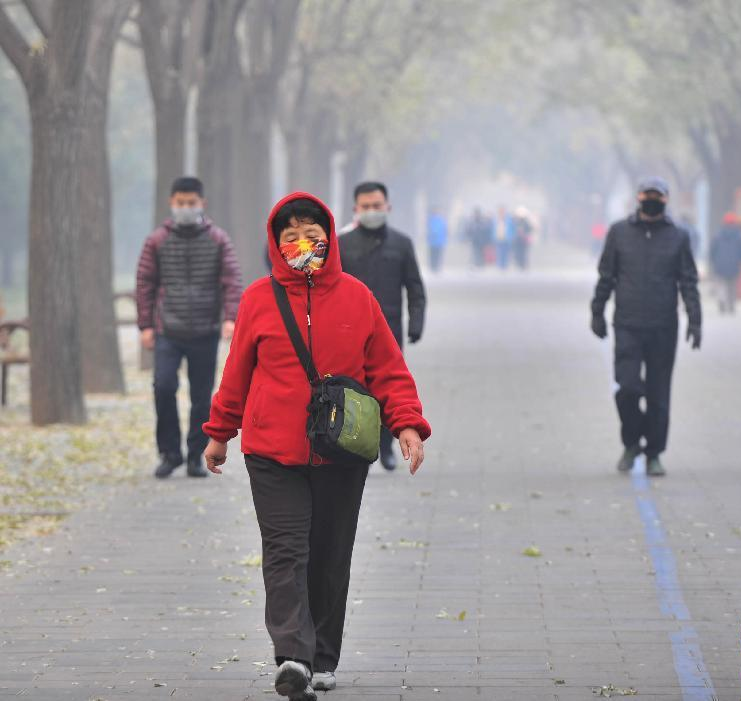person: (202, 190, 433, 701), (590, 177, 706, 479), (134, 174, 243, 482), (321, 179, 427, 470), (708, 211, 741, 316)
